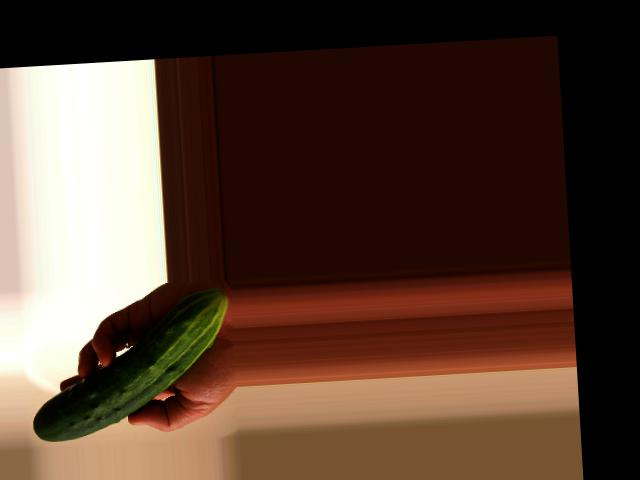cucumber: (25, 287, 234, 441)
